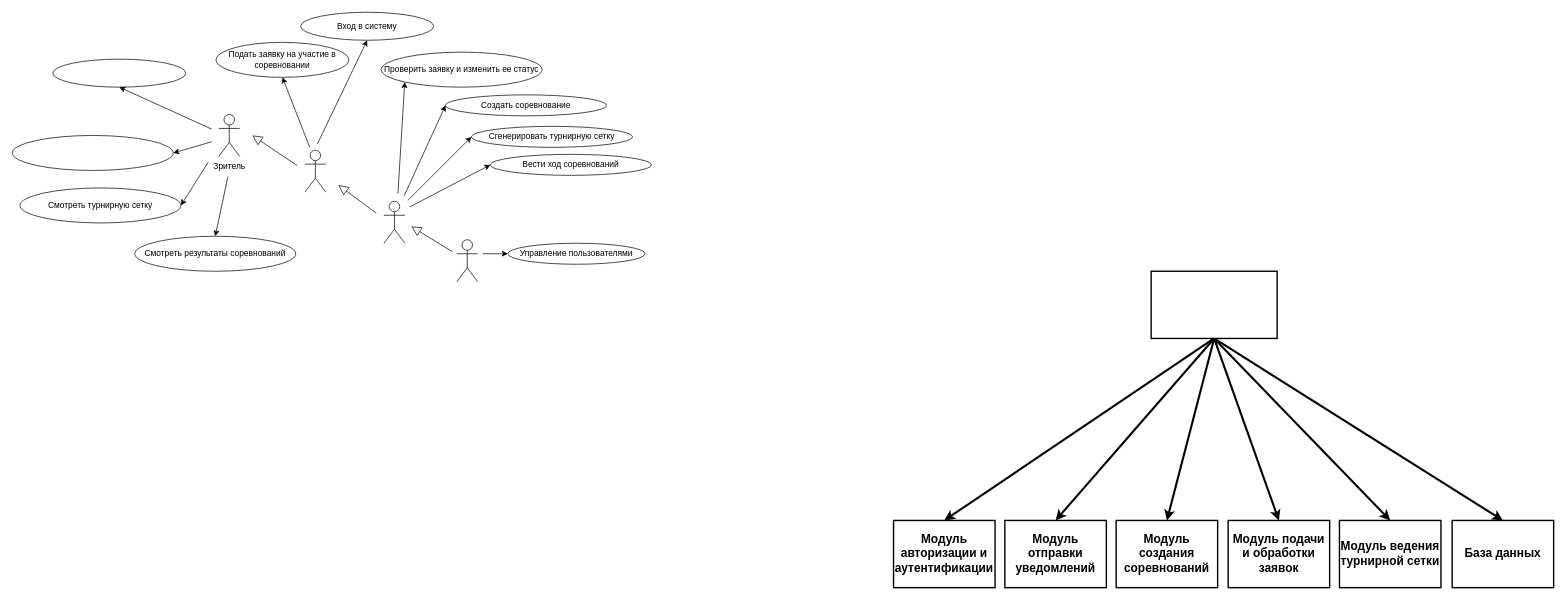
Some shapes in this 1567 by 601 pixel diagram are drawn without their labels. Here are the shapes that lost their labels. From the top down, the centre of each, then its label:
point 119,72: Зарегистрироваться в системе
point 92,152: Смотреть стартовые списки
point 315,170: Участник
point 394,222: Организатор
point 467,260: Администратор
point 1214,304: Система
